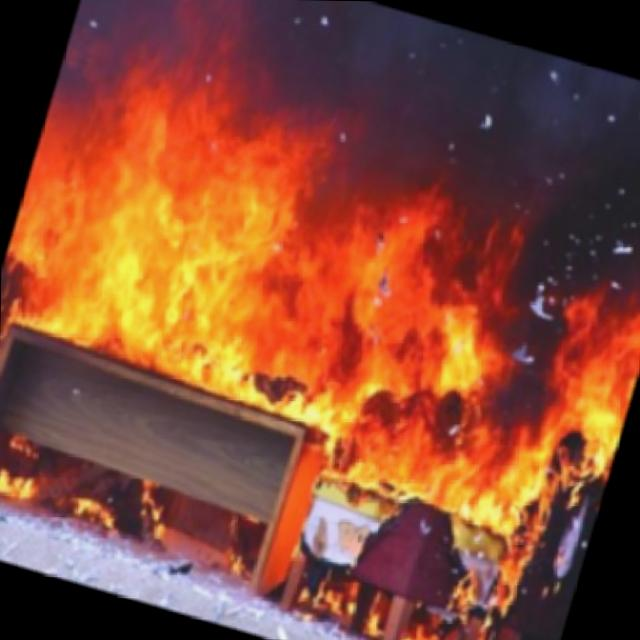fire: (0, 90, 640, 595)
